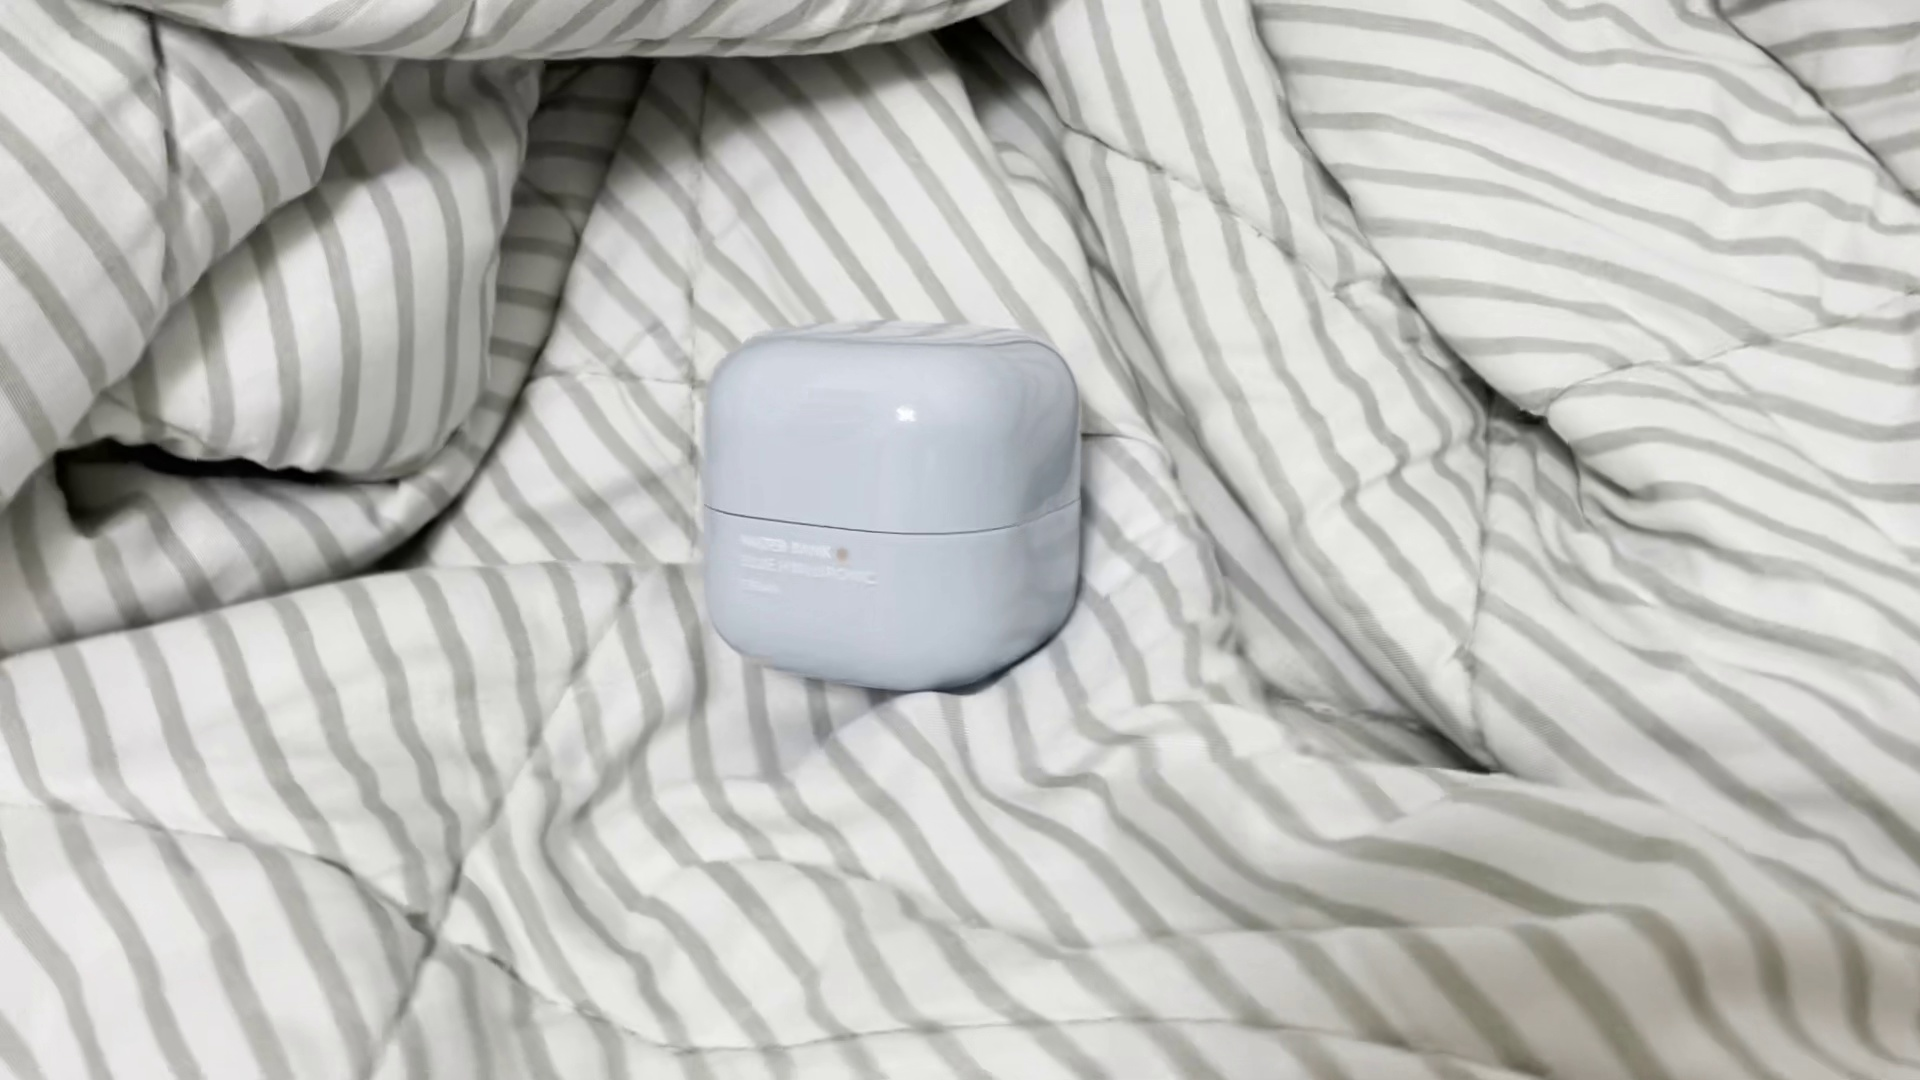cream: (702, 320, 1089, 694)
